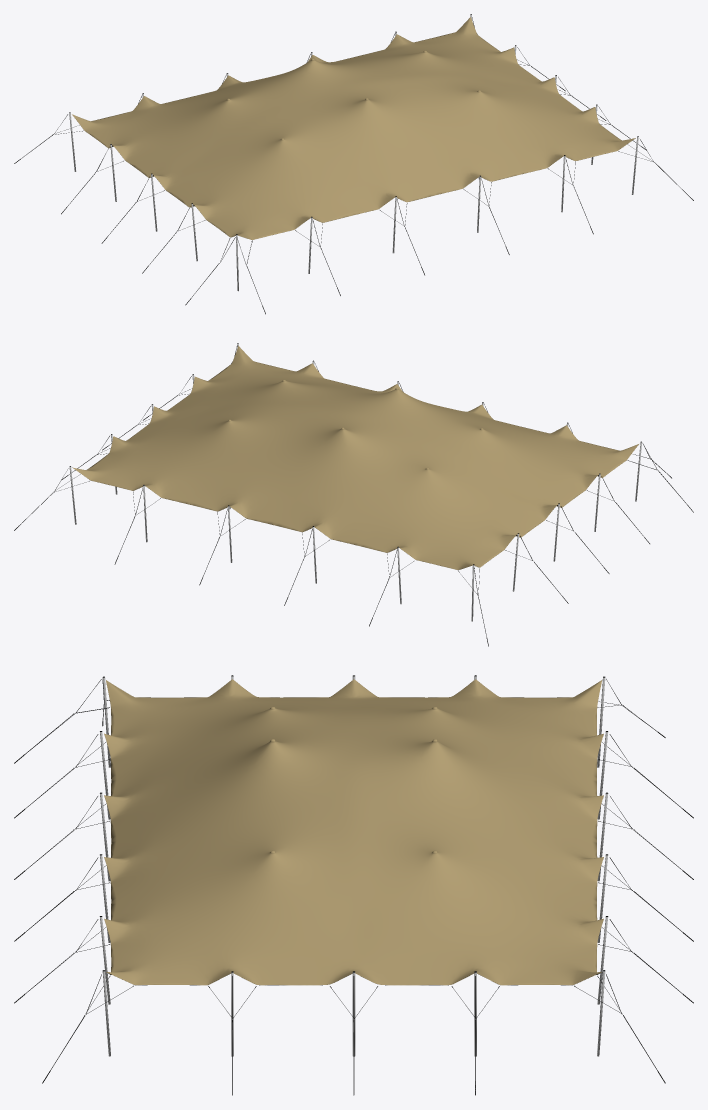
Rendered from namiot.glb.
3 views of the same model, one above another, from view 1: azimuth 30°, elevation 25°; view 2: azimuth 150°, elevation 25°; view 3: azimuth 270°, elevation 25° (orthographic). The views are drawn at different scales.
Visible parts, largest first — view 1: Empty; view 2: Empty; view 3: Empty.
Boxes of the visible parts, x1,y1,x2,y2 form: Empty: (14, 14, 693, 314); Empty: (14, 343, 693, 646); Empty: (14, 675, 693, 1095).
Bounding box in the file's own units: 0.2697 × 0.0552 × 0.2097.
